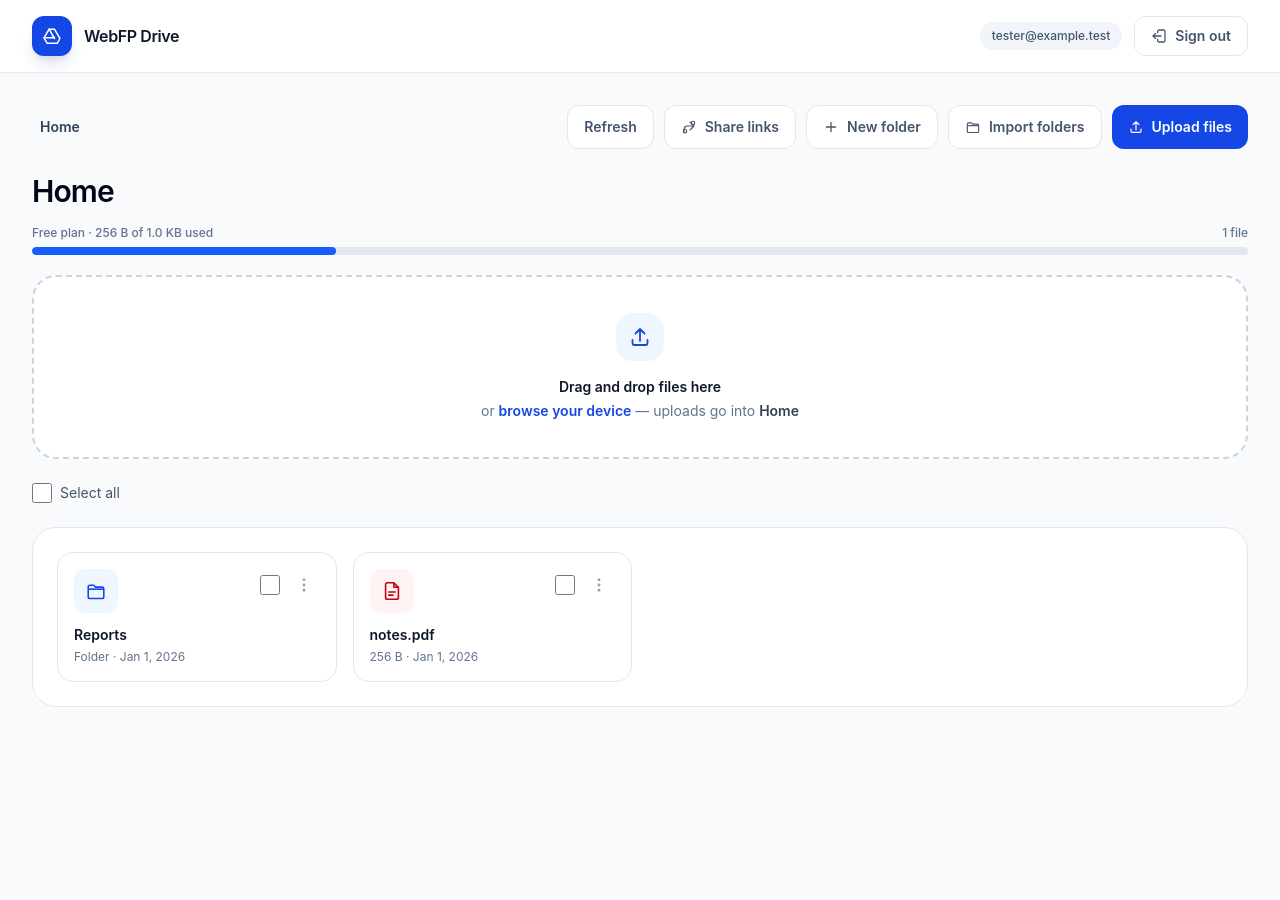
Scenario: drive actions › shows a partial failure and keeps only the failed item selected
Click the checkbox labelled "Select all" at {"x": 42, "y": 493}, box [32,483,52,503]
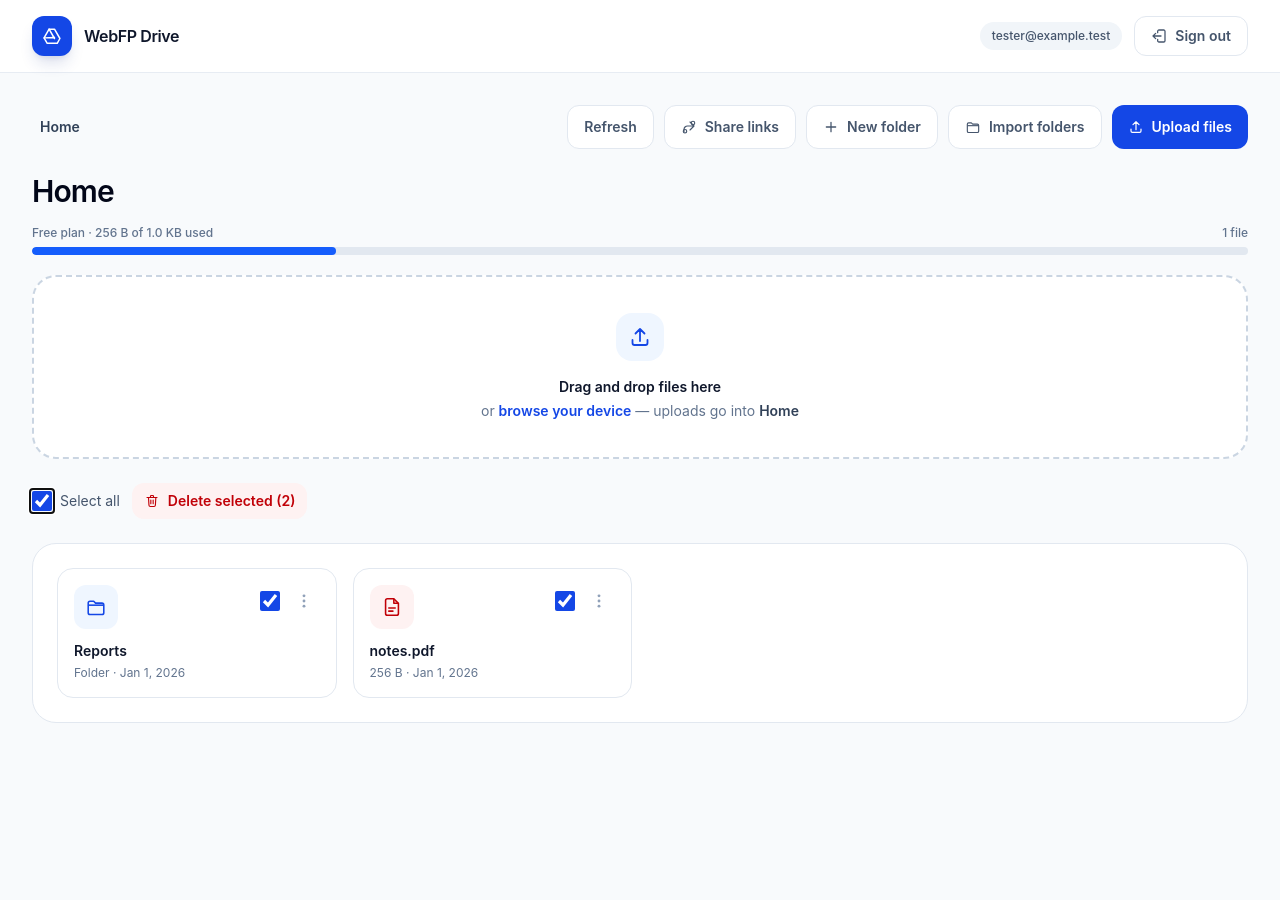
Click the button "Delete selected (2)" at {"x": 220, "y": 501}, box [132,483,308,519]
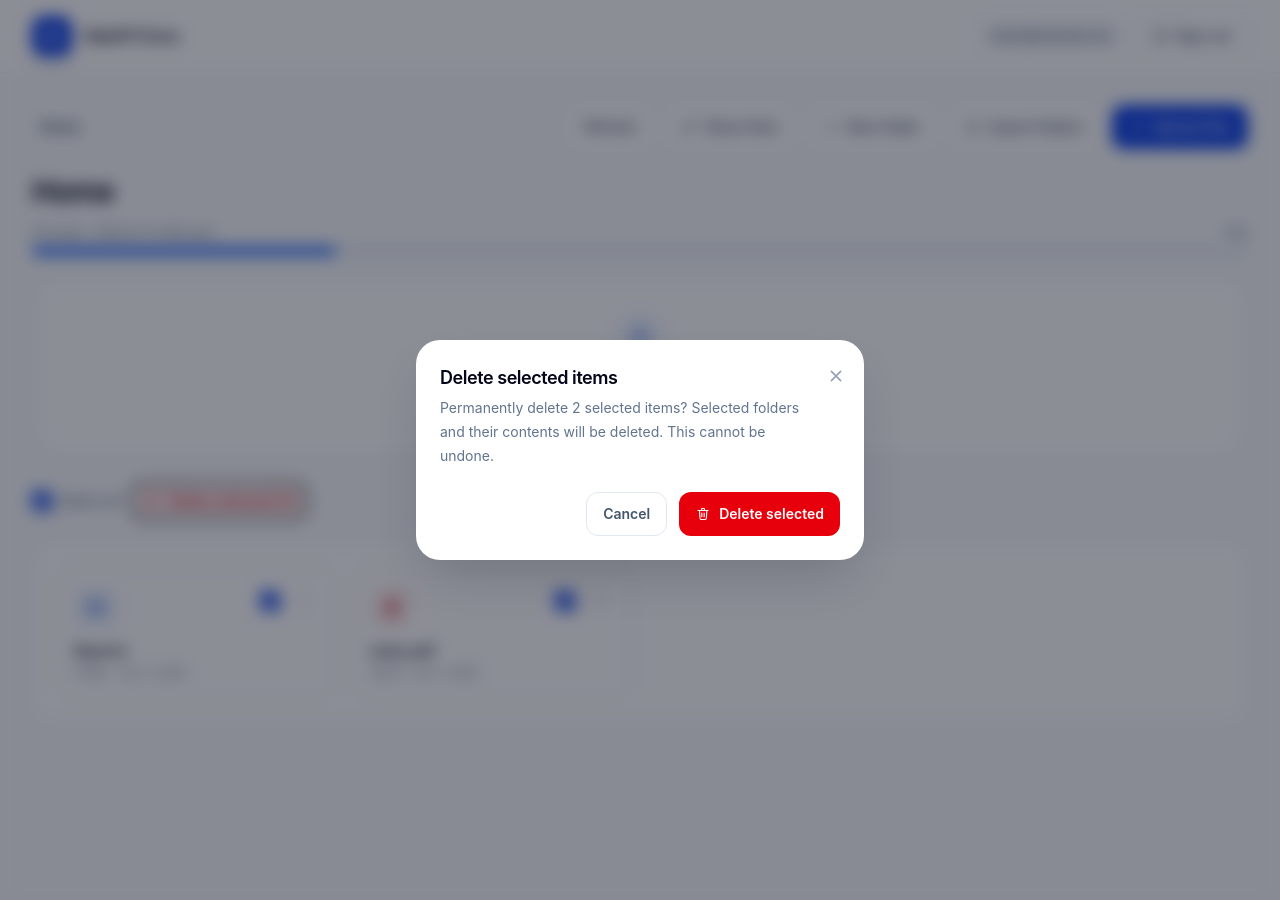
Click the button "Delete selected" at {"x": 760, "y": 514}, box [679,492,840,536]
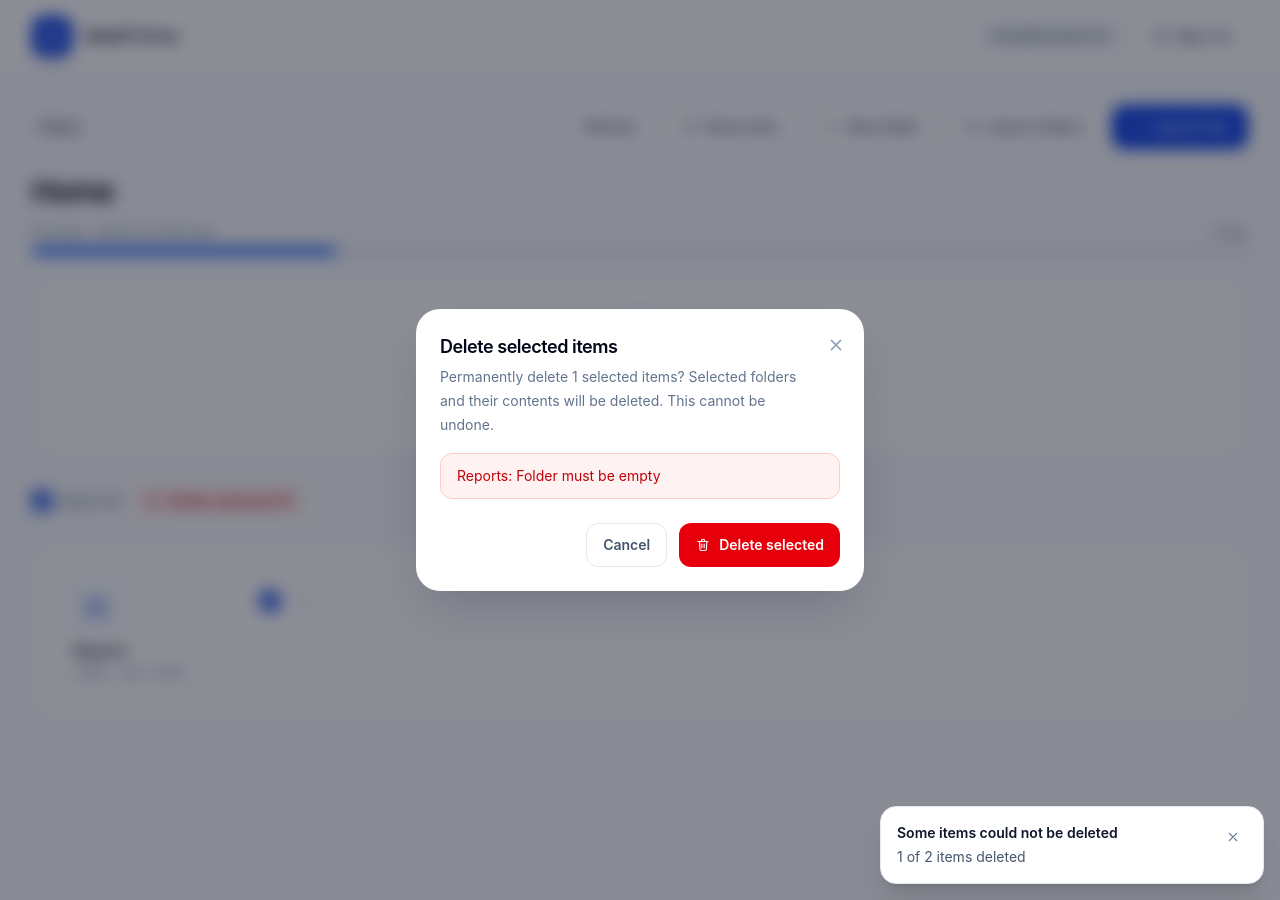
Now the checkbox named "Select folder Reports" is checked, box [260,591,280,611]
Now the message "Reports: Folder must be empty" is shown, box [440,453,840,499]
Now the text "1 of 2 items deleted" is shown, box [897,848,1026,865]
